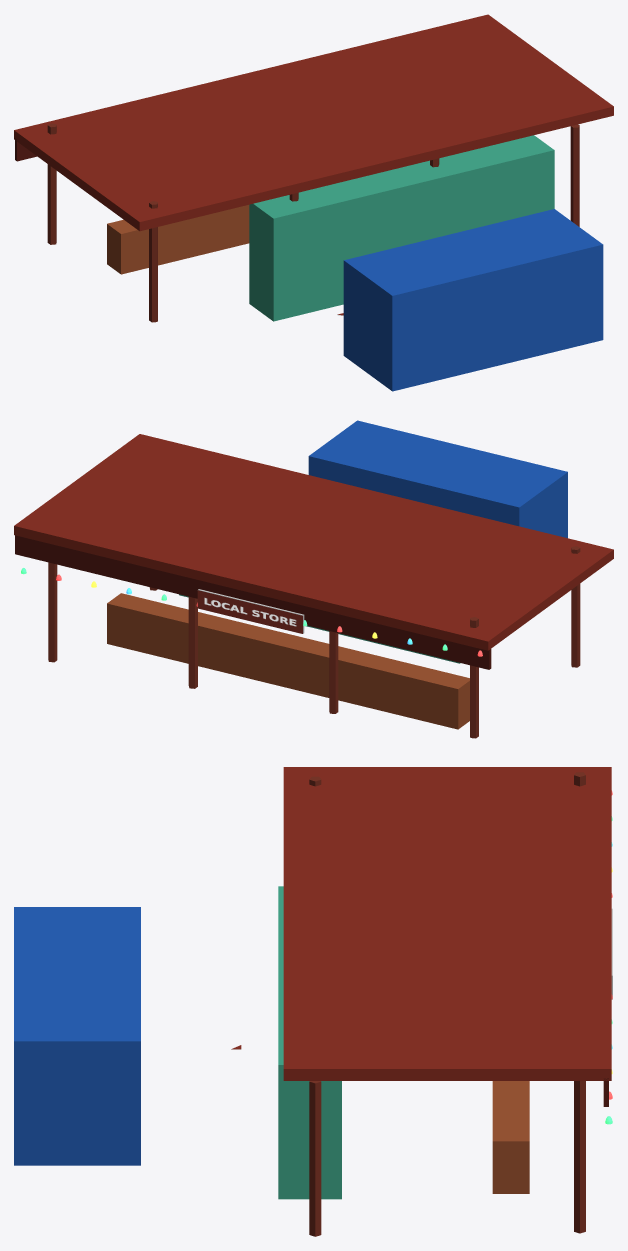
File: pb_foodcluster.glb
3 views of the same model, one above another, from view 1: azimuth 30°, elevation 25°; view 2: azimuth 150°, elevation 25°; view 3: azimuth 270°, elevation 25° (orthographic). The views are drawn at different scales.
Visible parts, largest first — view 1: pb_foodcluster_lod0; view 2: pb_foodcluster_lod0; view 3: pb_foodcluster_lod0.
Part boxes in pixels (box(x1,y1,x2,y2)): pb_foodcluster_lod0: box(14, 14, 613, 391); pb_foodcluster_lod0: box(14, 420, 613, 738); pb_foodcluster_lod0: box(14, 767, 612, 1236).
Size of what is drawn, in the model's own units: 13.5 by 4 by 11.34.
Materials: 13 (1 with a texture image).
